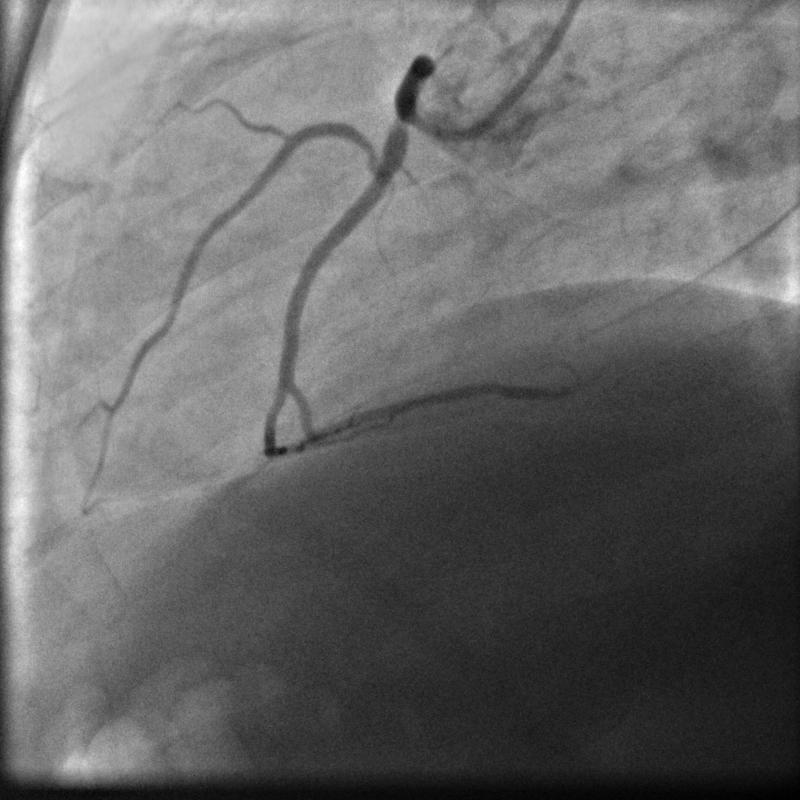Stenosis: (391, 108, 411, 132)
